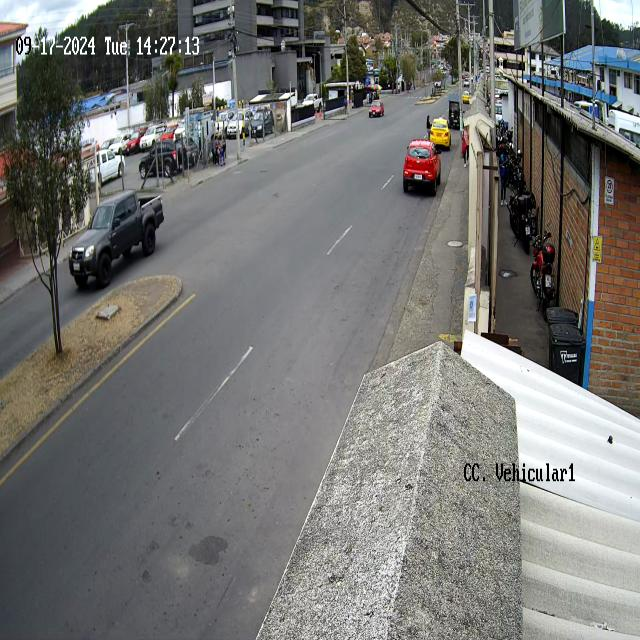CMT: (69, 189, 165, 291)
SUV: (403, 140, 441, 198)
